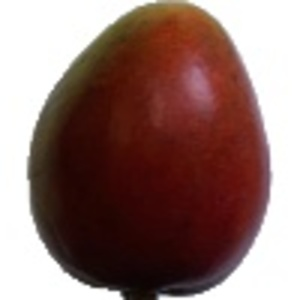manga: (28, 1, 273, 300)
